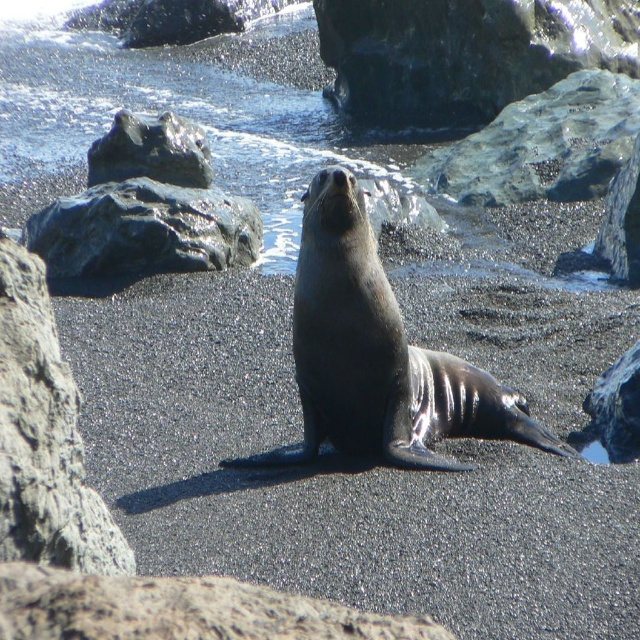Sea lion: (220, 165, 594, 470)
